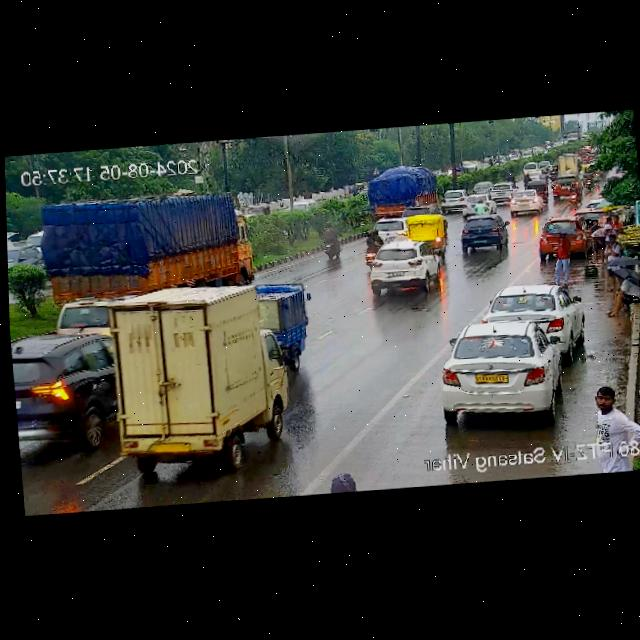car: (10, 328, 118, 459), (436, 318, 566, 422), (483, 280, 584, 349), (365, 238, 442, 295), (267, 281, 313, 362), (49, 300, 111, 339), (537, 217, 589, 262), (457, 213, 511, 254), (404, 214, 451, 250), (508, 192, 547, 217), (438, 189, 473, 213), (380, 217, 410, 241), (554, 154, 582, 177), (486, 189, 517, 204), (521, 163, 546, 180), (531, 178, 549, 199), (470, 180, 496, 194), (487, 181, 515, 194)
motorcycle: (317, 218, 345, 263), (361, 226, 381, 265), (474, 199, 489, 218), (583, 170, 596, 190), (568, 183, 579, 206), (506, 171, 516, 183), (565, 167, 572, 176)
person: (586, 381, 640, 475), (602, 278, 640, 320), (601, 230, 622, 293), (549, 230, 572, 283), (586, 219, 603, 265), (604, 218, 614, 232), (611, 217, 621, 228)
truck: (104, 286, 283, 473), (32, 187, 257, 307), (368, 168, 440, 220)
